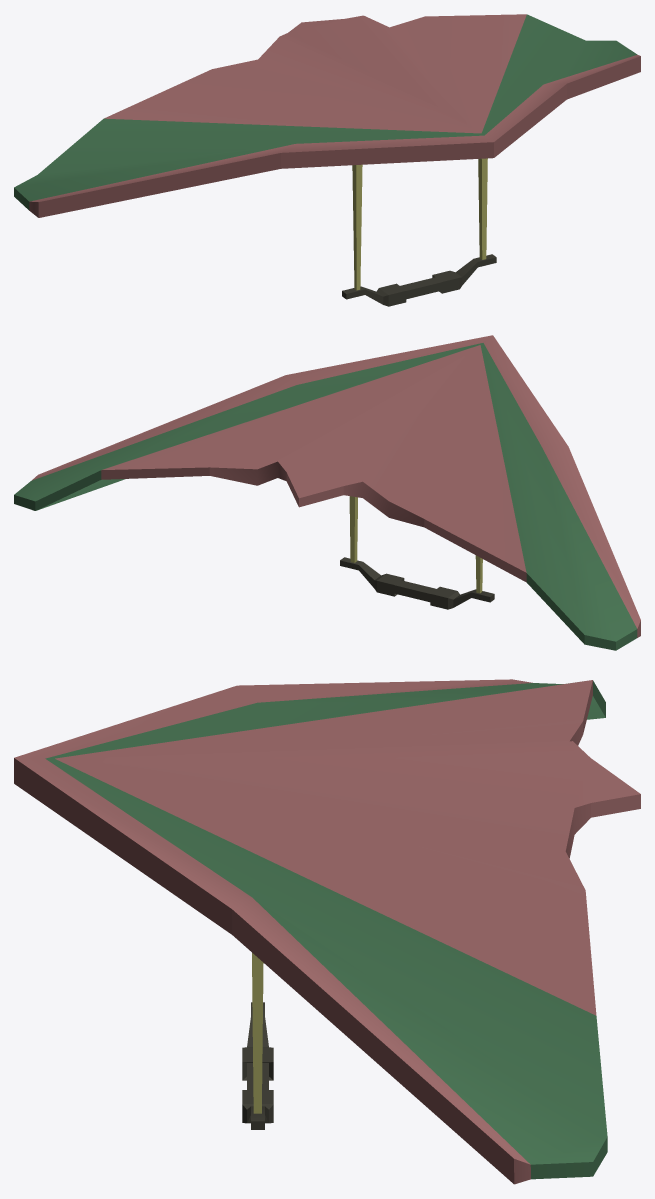
The model's file is HangGliderRed.fbx.
3 views of the same model, one above another, from view 1: azimuth 30°, elevation 25°; view 2: azimuth 150°, elevation 25°; view 3: azimuth 270°, elevation 25° (orthographic). The views are drawn at different scales.
Visible parts, largest first — view 1: polySurface1; view 2: polySurface1; view 3: polySurface1.
Part boxes in pixels (left/top/right/bottom): polySurface1: left=14, top=14, right=640, bottom=306; polySurface1: left=14, top=335, right=640, bottom=650; polySurface1: left=14, top=679, right=640, bottom=1184.
Bounding box in the file's own units: 19.19 × 6.27 × 10.58.
